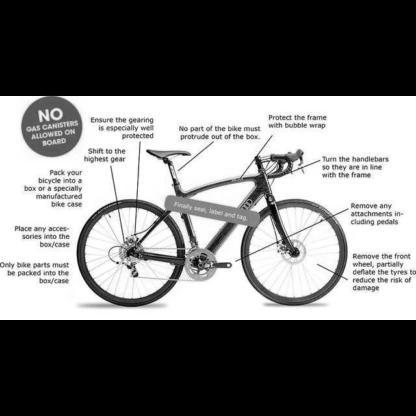Bicycle: (74, 139, 354, 315)
